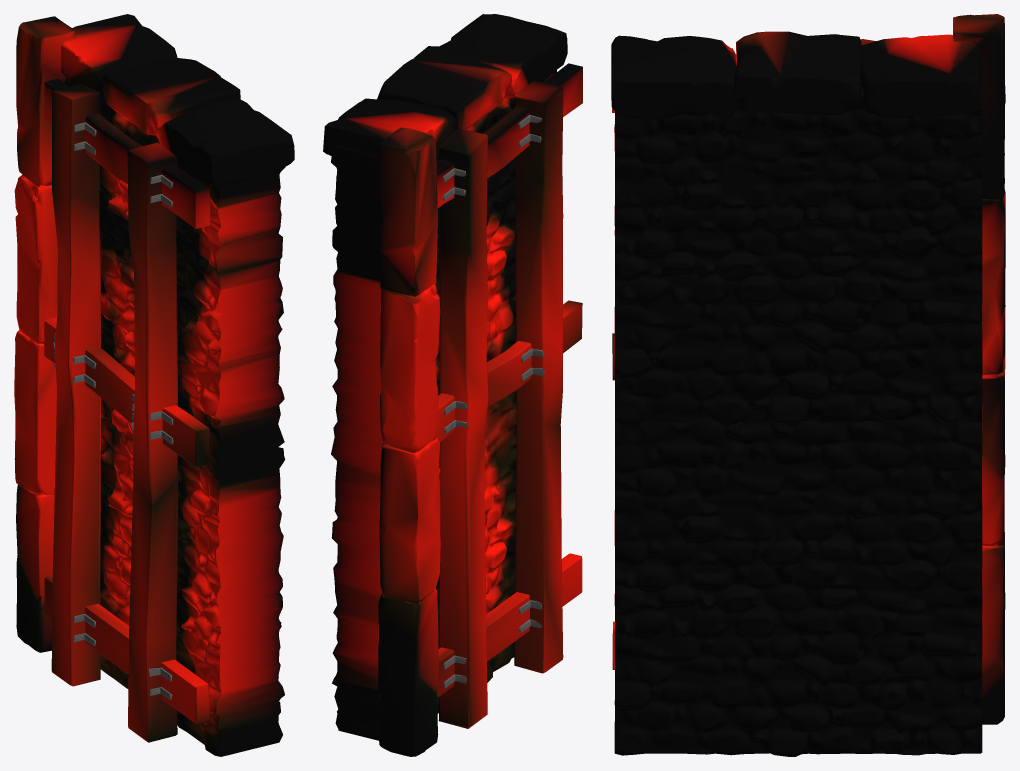
The model's file is SM_DockWall_4x8_01.fbx.
3 renders of one model, left to right at view 1: azimuth 30°, elevation 25°; view 2: azimuth 150°, elevation 25°; view 3: azimuth 270°, elevation 25°, orthographic. The views are drawn at different scales.
Visible parts, largest first — view 1: SM_DockWall_4x8_01_LOD0; view 2: SM_DockWall_4x8_01_LOD0; view 3: SM_DockWall_4x8_01_LOD0.
Part boxes in pixels (x1,y1,x2,y2): SM_DockWall_4x8_01_LOD0: [14, 14, 294, 756]; SM_DockWall_4x8_01_LOD0: [323, 14, 582, 756]; SM_DockWall_4x8_01_LOD0: [611, 14, 1005, 756].
Bounding box in the file's own units: 166 × 430 × 832.
